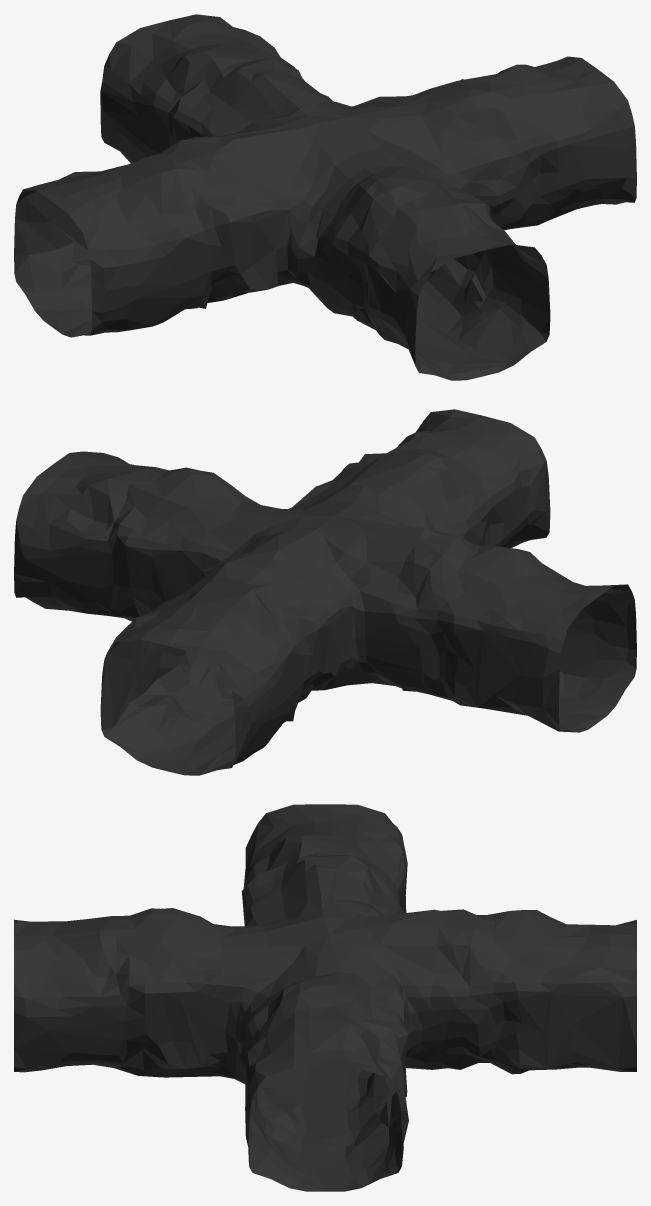
File: Cave_4Way.fbx
The picture shows the model from 3 angles, top to bottom: view 1: azimuth 30°, elevation 25°; view 2: azimuth 150°, elevation 25°; view 3: azimuth 270°, elevation 25°; orthographic projection.
Parts seen in each view (by area): view 1: Modular 4 Way; view 2: Modular 4 Way; view 3: Modular 4 Way.
Boxes of the visible parts, <box> form: Modular 4 Way: <box>14,14,636,380</box>; Modular 4 Way: <box>14,409,636,775</box>; Modular 4 Way: <box>14,804,636,1191</box>.
Bounding box in the file's own units: 1600 × 1600 × 425.
